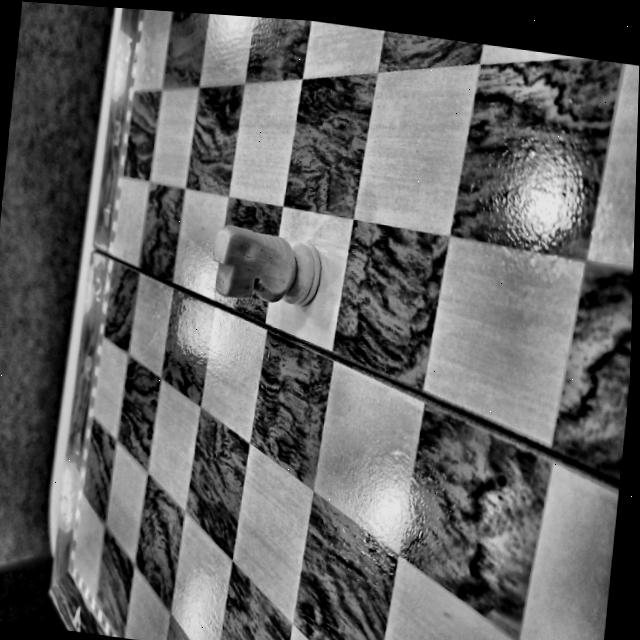white-knight: (211, 224, 320, 305)
